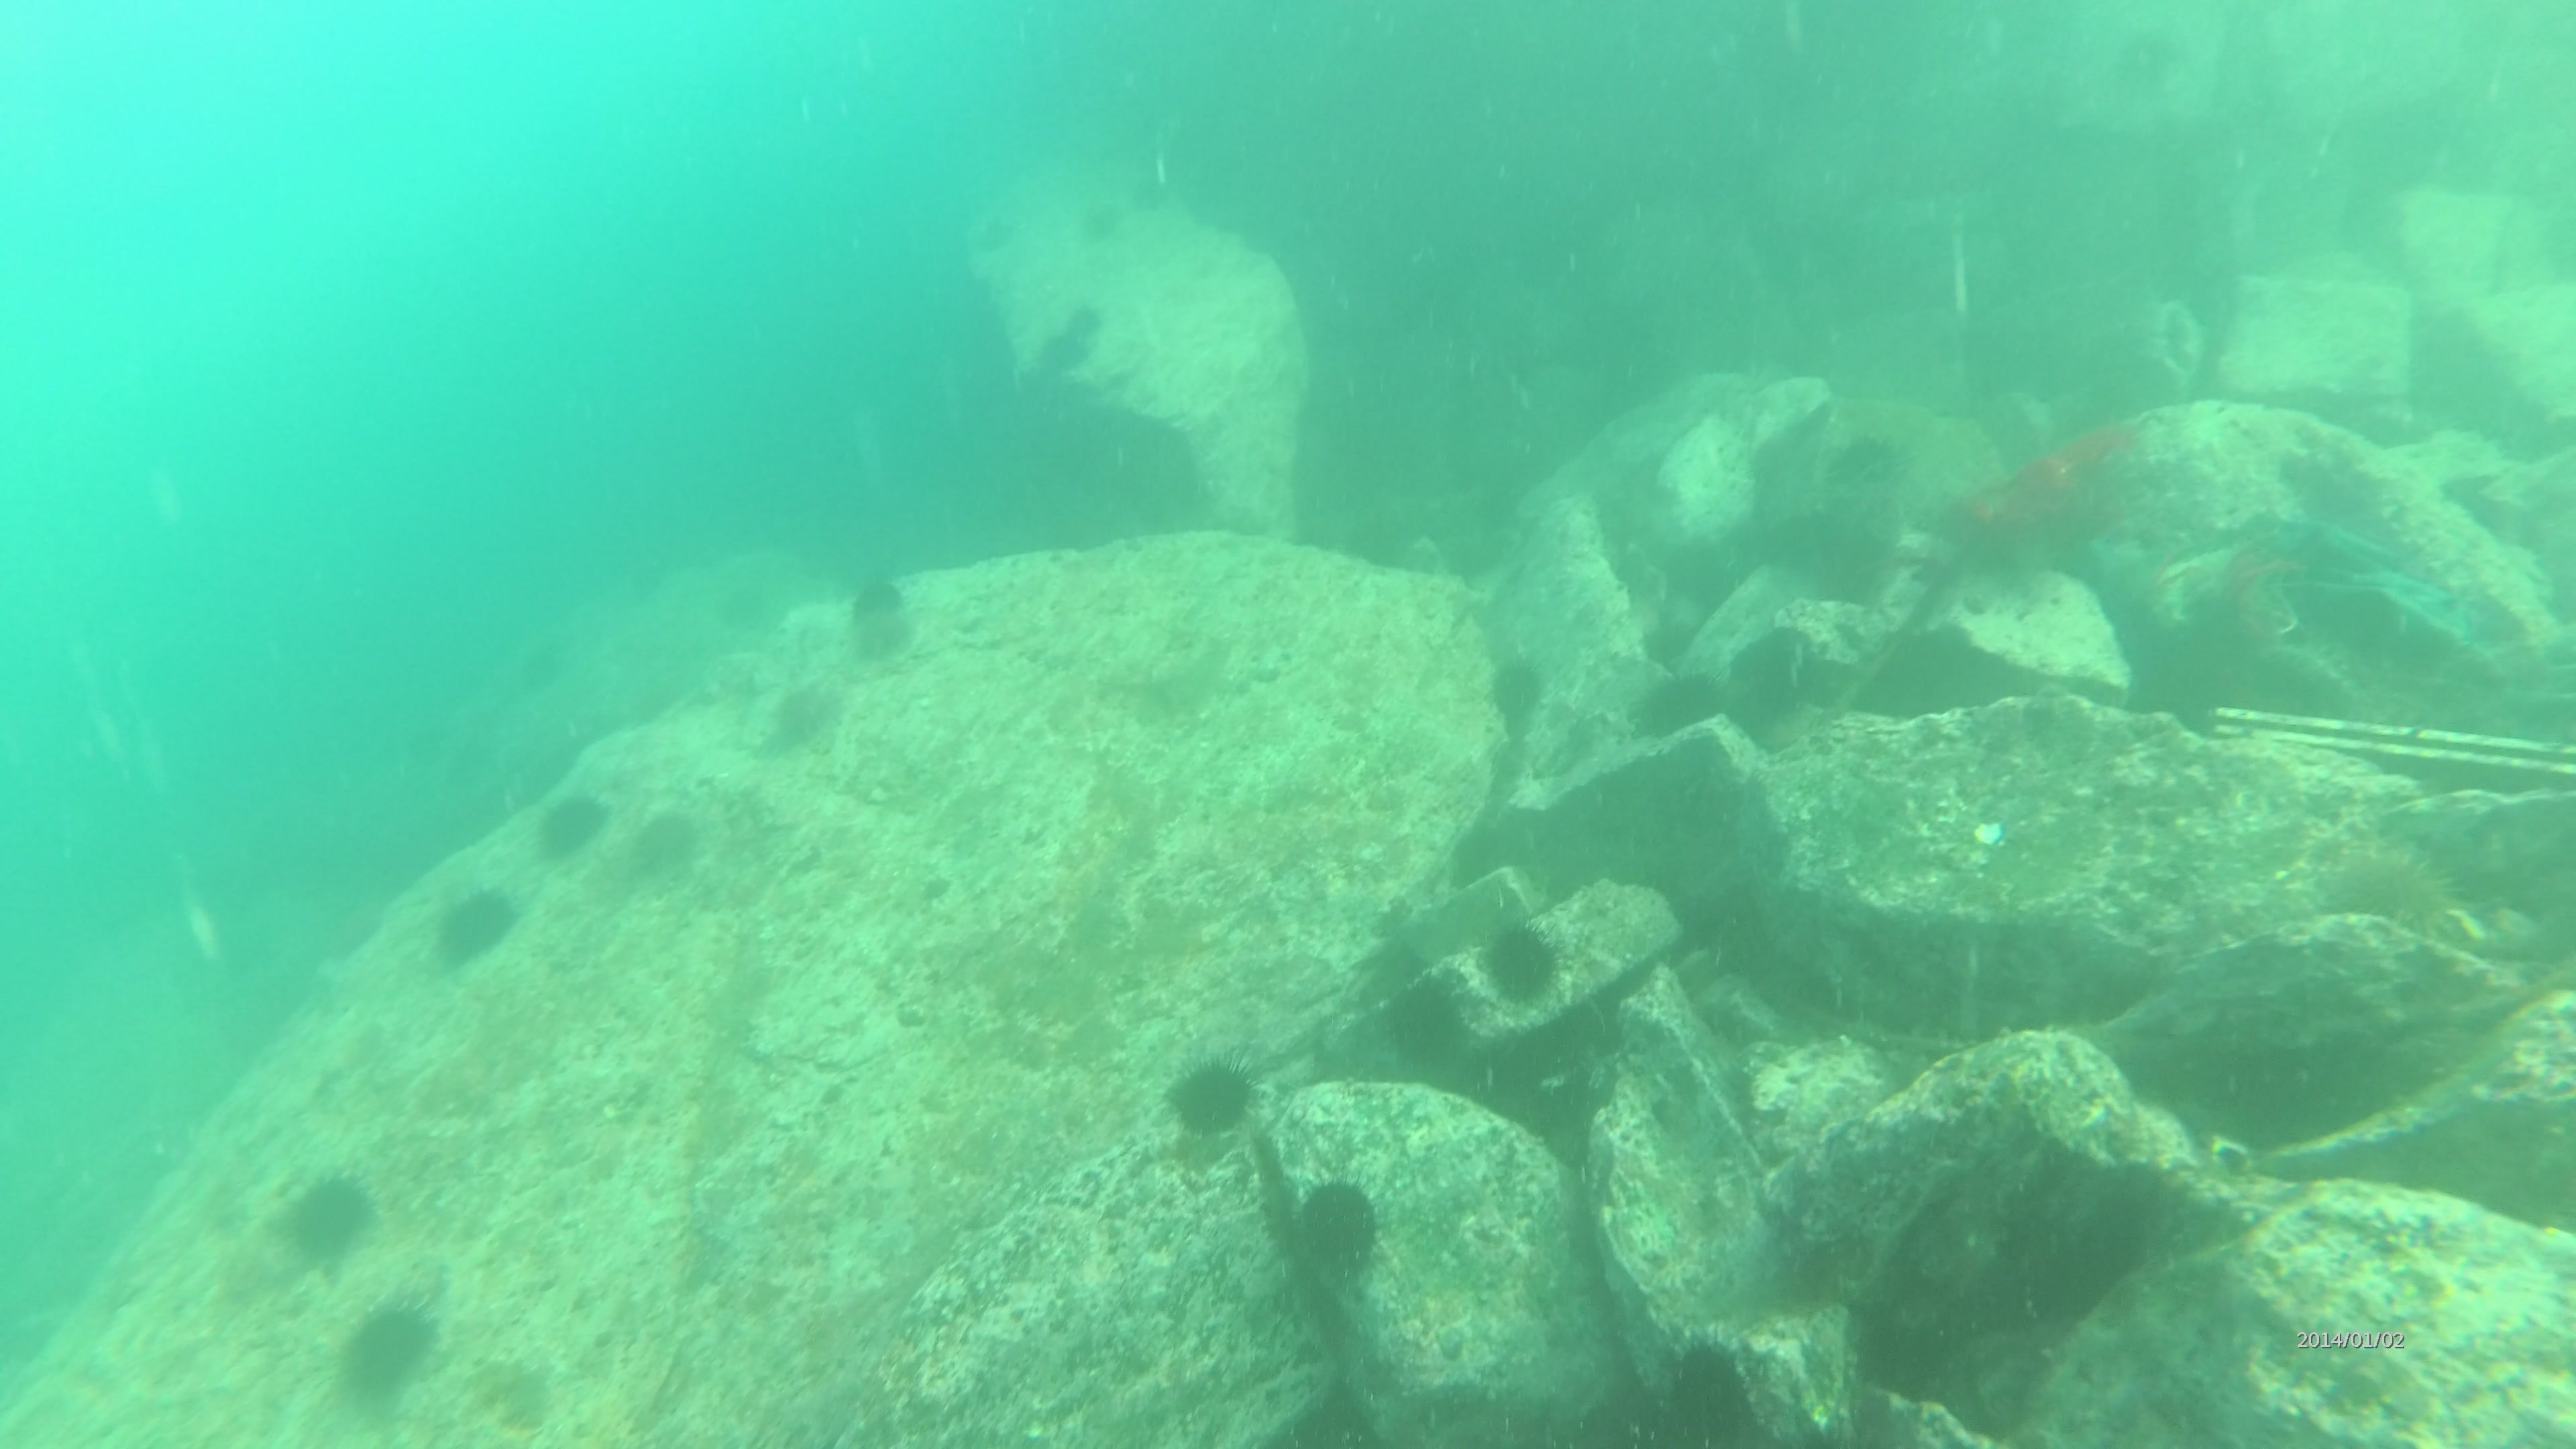echinus: (2307, 835, 2475, 948), (1647, 1332, 1769, 1449), (331, 1292, 444, 1408), (1283, 1171, 1389, 1284), (274, 1162, 380, 1269), (1376, 966, 1474, 1072), (1161, 1049, 1265, 1143), (1474, 913, 1568, 1010), (426, 879, 522, 973), (1626, 662, 1729, 748), (529, 784, 614, 869), (625, 801, 708, 888), (761, 676, 846, 759), (1481, 648, 1552, 738), (840, 568, 911, 633), (1051, 297, 1109, 345), (849, 614, 908, 658), (1040, 329, 1086, 370), (1127, 180, 1169, 211), (1083, 200, 1123, 228)
